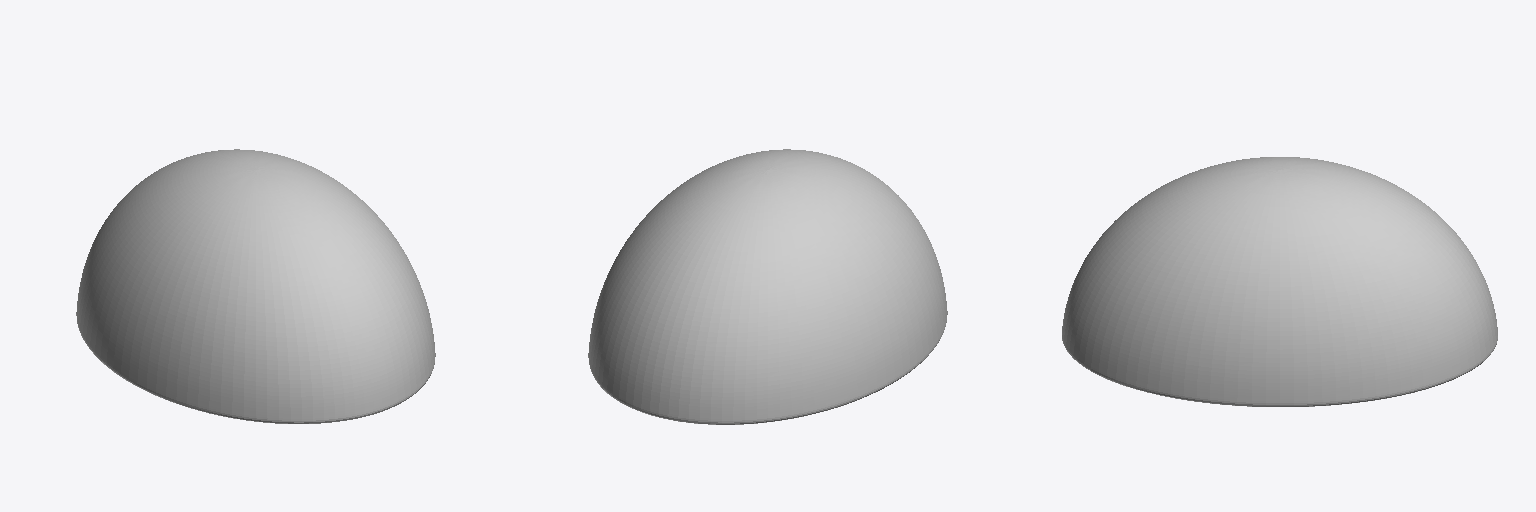
File: footR.obj
3 renders of one model, left to right at view 1: azimuth 30°, elevation 25°; view 2: azimuth 150°, elevation 25°; view 3: azimuth 270°, elevation 25°, orthographic.
Parts seen in each view (by area): view 1: polySurface13 uploads_files_[number redacted]_Guts_man:Mesh; view 2: polySurface13 uploads_files_[number redacted]_Guts_man:Mesh; view 3: polySurface13 uploads_files_[number redacted]_Guts_man:Mesh.
Part boxes in pixels (left/top/right/bottom): polySurface13 uploads_files_[number redacted]_Guts_man:Mesh: left=76, top=149, right=435, bottom=423; polySurface13 uploads_files_[number redacted]_Guts_man:Mesh: left=588, top=149, right=947, bottom=424; polySurface13 uploads_files_[number redacted]_Guts_man:Mesh: left=1062, top=157, right=1497, bottom=406.
Bounding box in the file's own units: 0.4894 × 0.2818 × 0.6486.